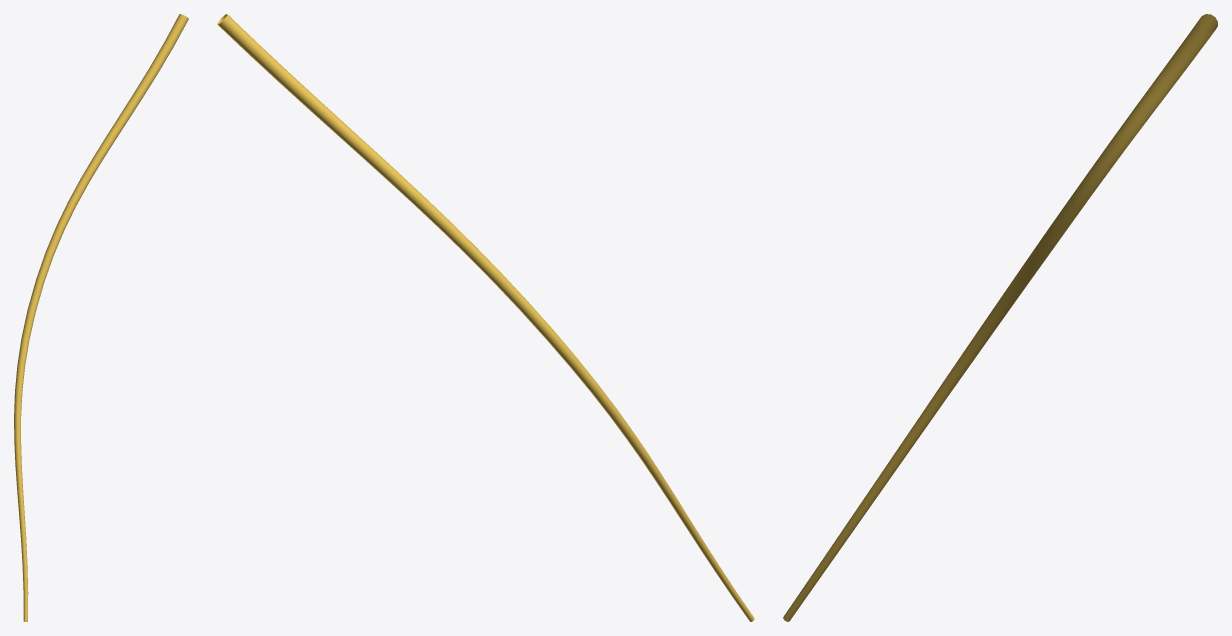
The model's file is Inferior_lateral_brachial_cutaneous_nerve_right.glb.
The picture shows the model from 3 angles, left to right: view 1: azimuth 30°, elevation 25°; view 2: azimuth 150°, elevation 25°; view 3: azimuth 270°, elevation 25°; orthographic projection. The views are drawn at different scales.
Parts seen in each view (by area): view 1: Inferior_lateral_brachial_cutaneous_nerve.r_BezierCurve.523; view 2: Inferior_lateral_brachial_cutaneous_nerve.r_BezierCurve.523; view 3: Inferior_lateral_brachial_cutaneous_nerve.r_BezierCurve.523.
Boxes of the visible parts, x1,y1,x2,y2 form: Inferior_lateral_brachial_cutaneous_nerve.r_BezierCurve.523: (14,14,188,621); Inferior_lateral_brachial_cutaneous_nerve.r_BezierCurve.523: (217,14,754,621); Inferior_lateral_brachial_cutaneous_nerve.r_BezierCurve.523: (783,14,1217,621).
Size of the model in its own units: 0.0301 by 0.0475 by 0.022.
